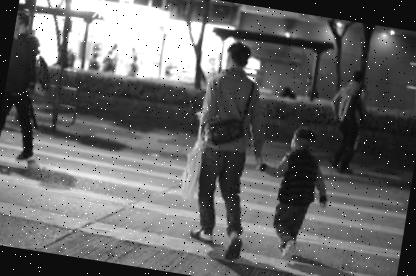person: (171, 34, 281, 266), (250, 118, 340, 269)
